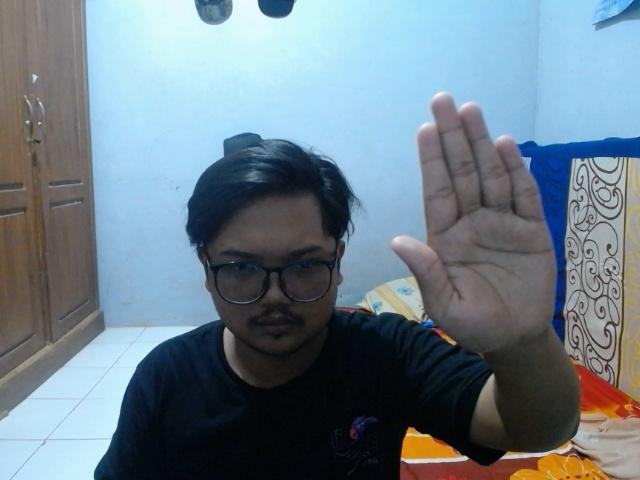Release: (387, 84, 560, 359)
